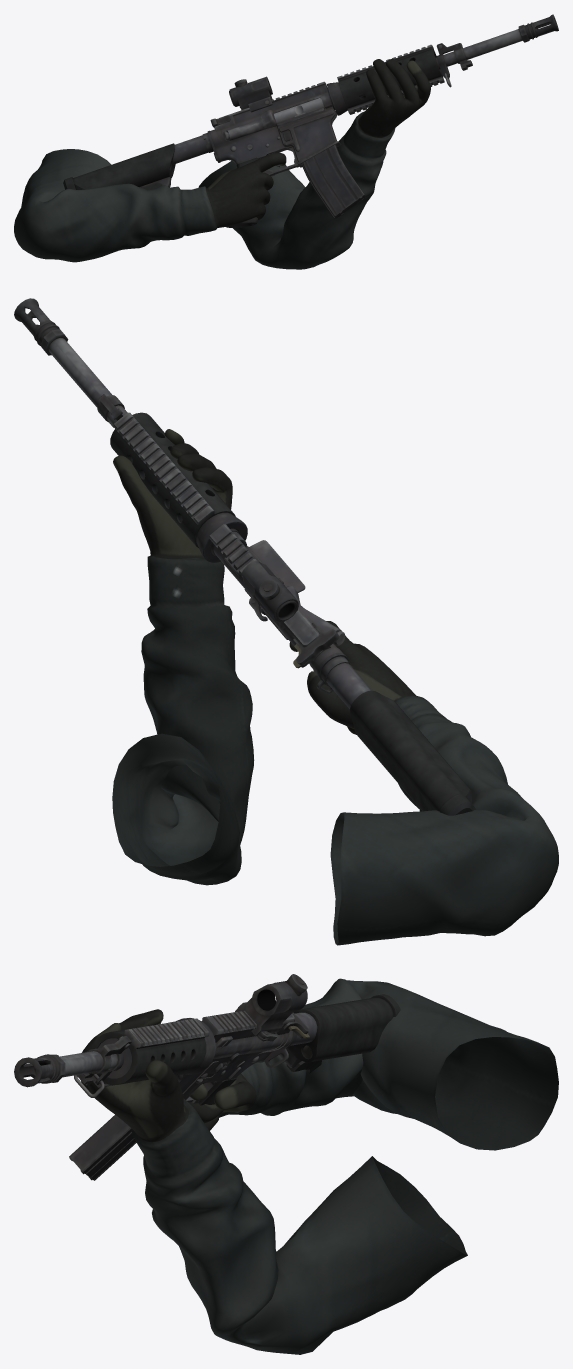
The model's file is carbine_000171.obj.
The picture shows the model from 3 angles, top to bottom: view 1: azimuth 30°, elevation 25°; view 2: azimuth 150°, elevation 25°; view 3: azimuth 270°, elevation 25°; orthographic projection. The views are drawn at different scales.
Visible parts, largest first — view 1: armmesh_arms_0, base_carbine_0, clip_carbine_0, scope_carbine_0, bolt_carbine_0; view 2: armmesh_arms_0, base_carbine_0, scope_carbine_0, lid_carbine_0; view 3: armmesh_arms_0, base_carbine_0, scope_carbine_0, clip_carbine_0.
Part boxes in pixels (x1,y1,x2,y2): armmesh_arms_0: (14, 59, 430, 269); base_carbine_0: (63, 14, 558, 227); clip_carbine_0: (301, 144, 365, 218); scope_carbine_0: (229, 76, 272, 112); bolt_carbine_0: (274, 98, 323, 122); armmesh_arms_0: (112, 429, 558, 945); base_carbine_0: (14, 298, 475, 815); scope_carbine_0: (242, 560, 298, 629); lid_carbine_0: (249, 540, 305, 592); armmesh_arms_0: (81, 978, 558, 1354); base_carbine_0: (14, 994, 400, 1105); scope_carbine_0: (235, 974, 307, 1041); clip_carbine_0: (69, 1114, 136, 1180).
Bounding box in the file's own units: 97.9 × 56.72 × 62.91.
Materials: 3 (3 with a texture image).
